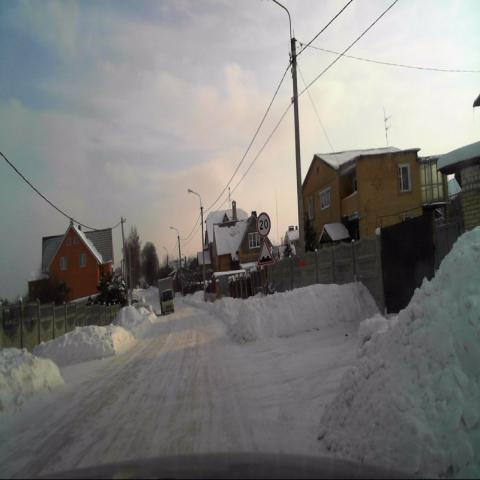1_16: (258, 238, 274, 265)
